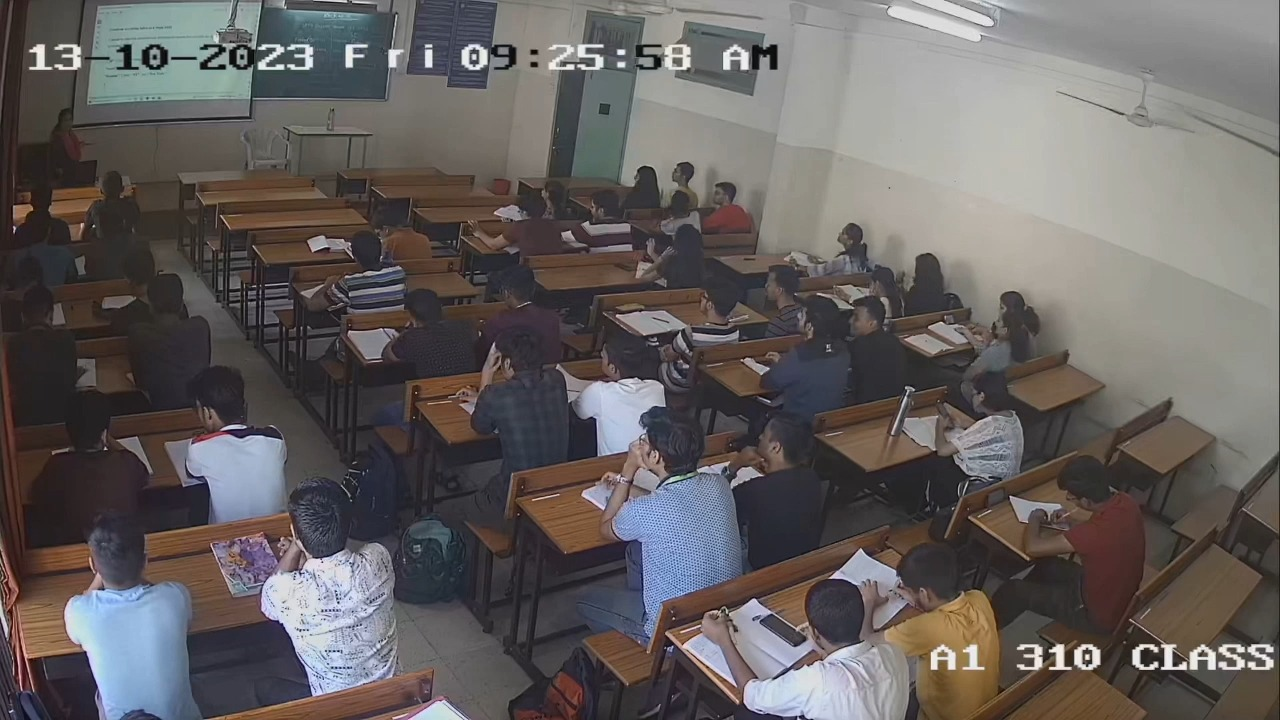cell-phones: (759, 613, 809, 647), (934, 401, 956, 430), (985, 485, 1008, 508), (613, 300, 649, 314), (614, 262, 637, 273), (943, 313, 957, 325)
person: (750, 577, 912, 720), (1028, 453, 1148, 609), (951, 371, 1024, 478), (670, 282, 742, 351), (643, 222, 706, 288), (965, 309, 1032, 371)
